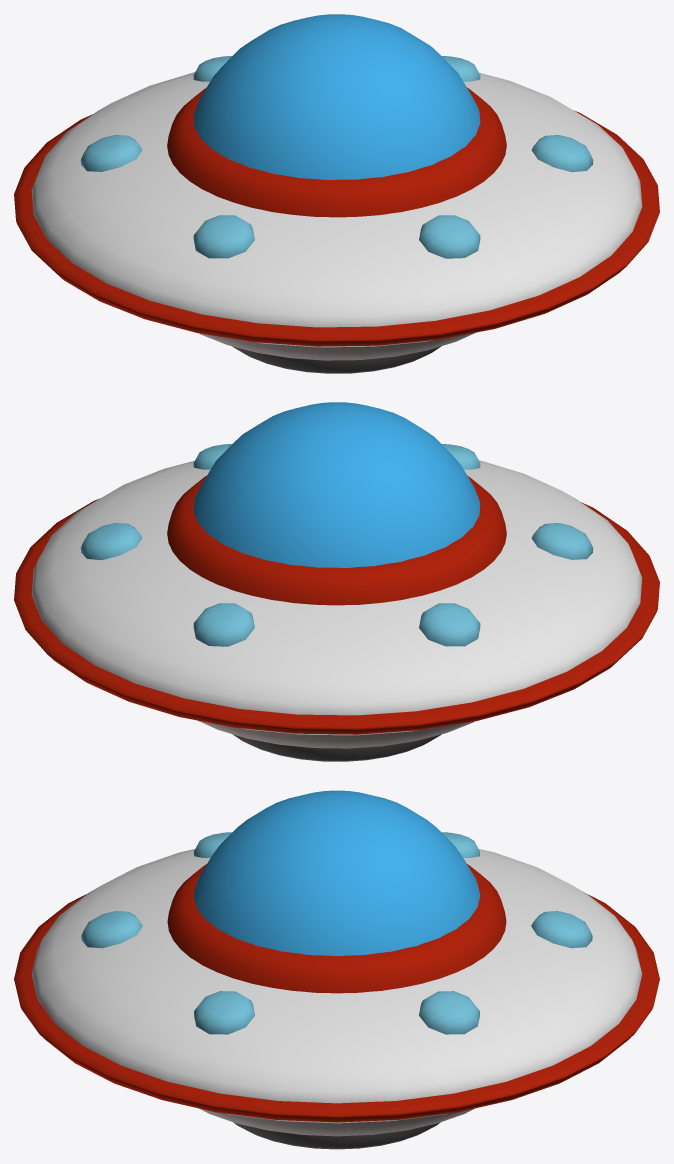
3 views of the same model, one above another, from view 1: azimuth 30°, elevation 25°; view 2: azimuth 150°, elevation 25°; view 3: azimuth 270°, elevation 25° (orthographic).
Parts seen in each view (by area): view 1: ufo_0; view 2: ufo_0; view 3: ufo_0.
Boxes of the visible parts, x1,y1,x2,y2 form: ufo_0: (14,14,659,373); ufo_0: (14,402,659,761); ufo_0: (14,790,659,1149).
Size of the model in its own units: 4.21 by 2.14 by 4.21.
